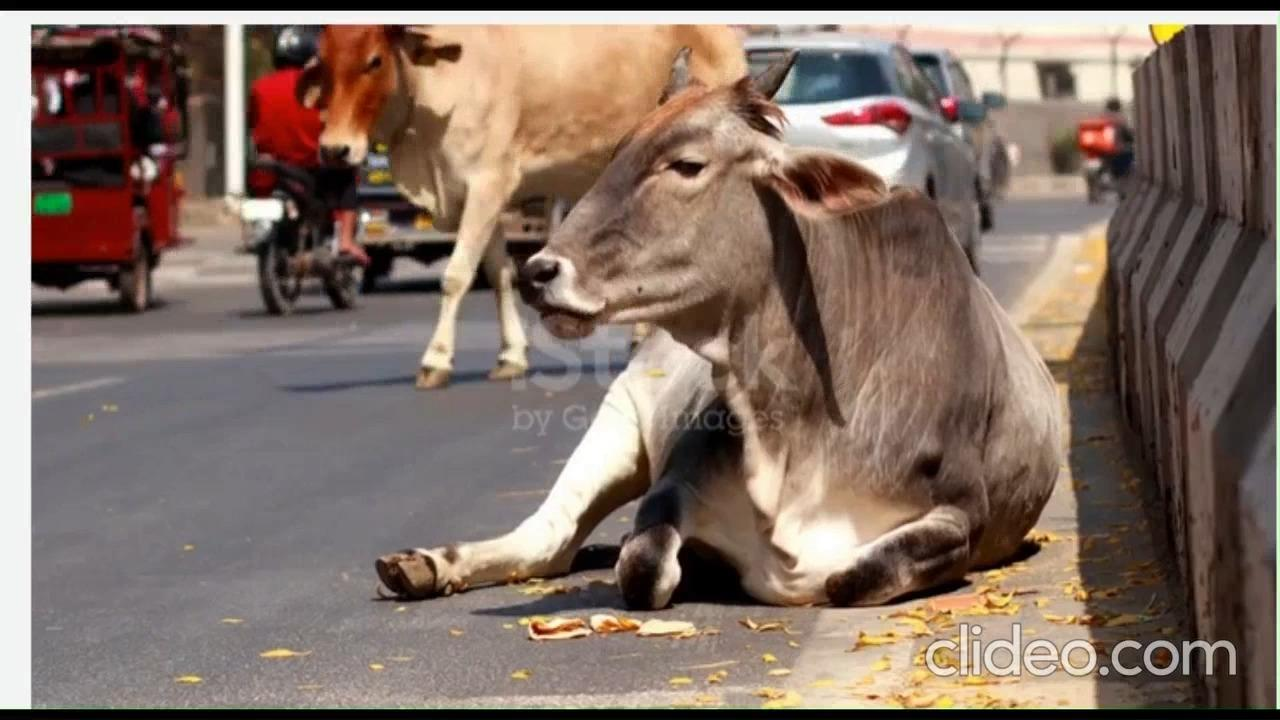Cow: (376, 40, 1064, 591), (302, 27, 757, 383)
